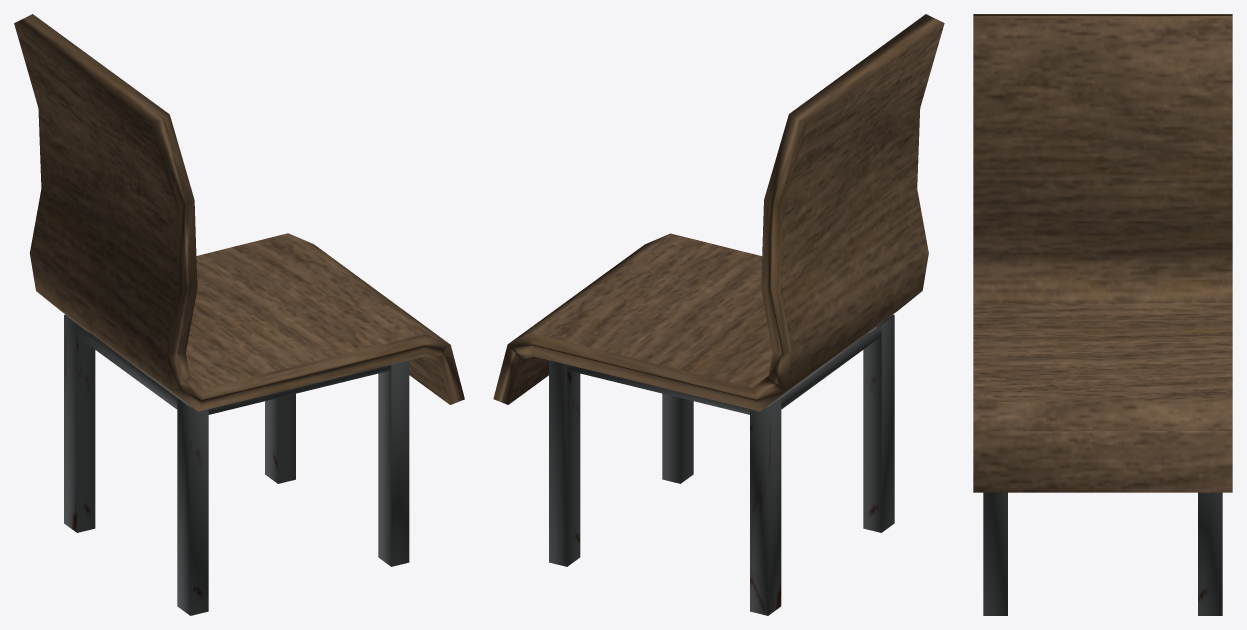
The model's file is chair3.obj.
The picture shows the model from 3 angles, left to right: view 1: azimuth 30°, elevation 25°; view 2: azimuth 150°, elevation 25°; view 3: azimuth 270°, elevation 25°; orthographic projection. The views are drawn at different scales.
Parts seen in each view (by area): view 1: Chair_Cube.001; view 2: Chair_Cube.001; view 3: Chair_Cube.001.
Part boxes in pixels (bbox=[...]): Chair_Cube.001: bbox=[14, 14, 464, 615]; Chair_Cube.001: bbox=[493, 14, 944, 615]; Chair_Cube.001: bbox=[973, 14, 1232, 615].
Bounding box in the file's own units: 34.43 × 53.6 × 26.
